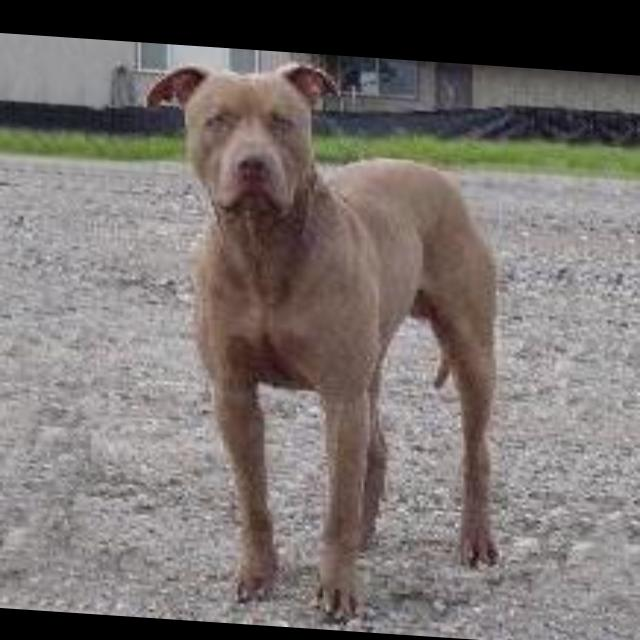staffford: (145, 47, 500, 625)
